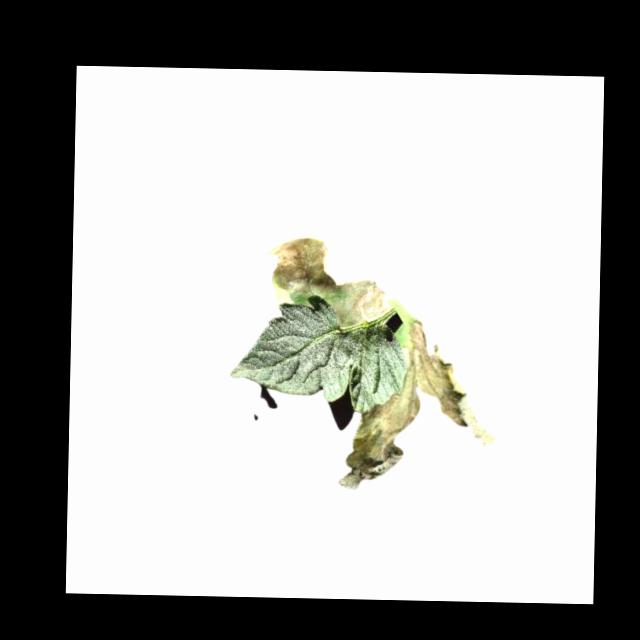Late_blight: (338, 319, 500, 495), (264, 232, 390, 327)
healthy: (226, 294, 405, 413)
